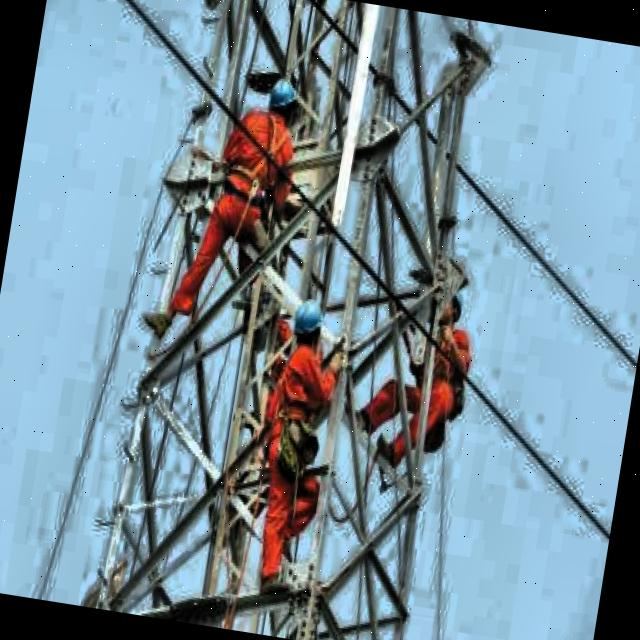helmet: (286, 294, 327, 360), (262, 70, 302, 126), (430, 276, 469, 331)
